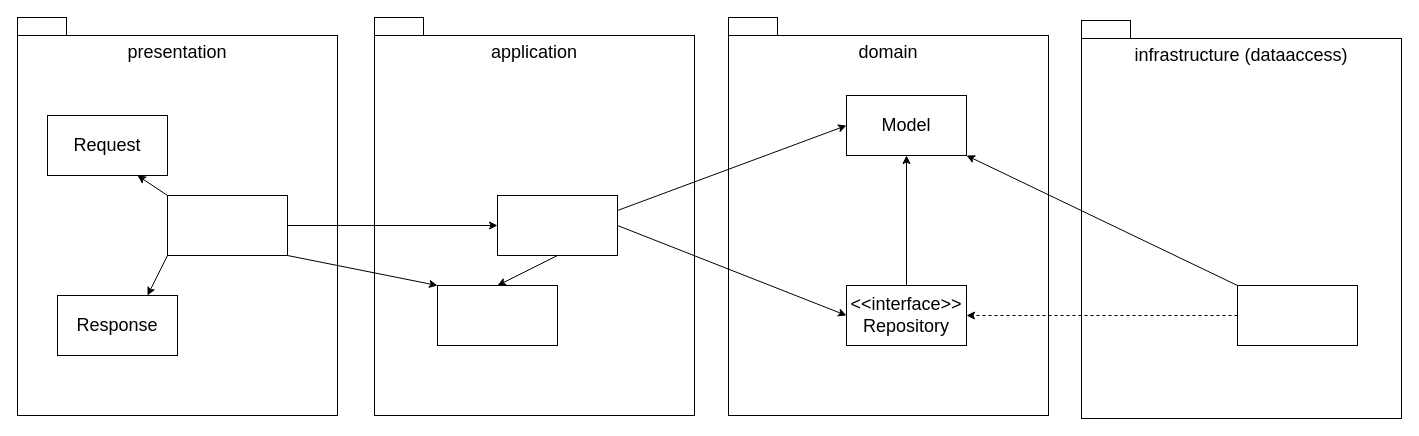
This 1419x436 diagram has some shape labels left out. Here are the shapes that lost their labels. From the top down, the centre of each, then its label:
At [227,225]: "Router".
At [557,225]: "Service".
At [497,315]: "Output".
At [1297,315]: "MySQL Repository".
